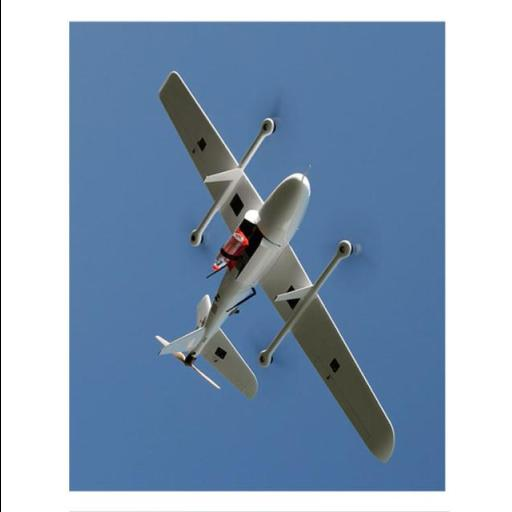uav: (144, 61, 406, 463)
